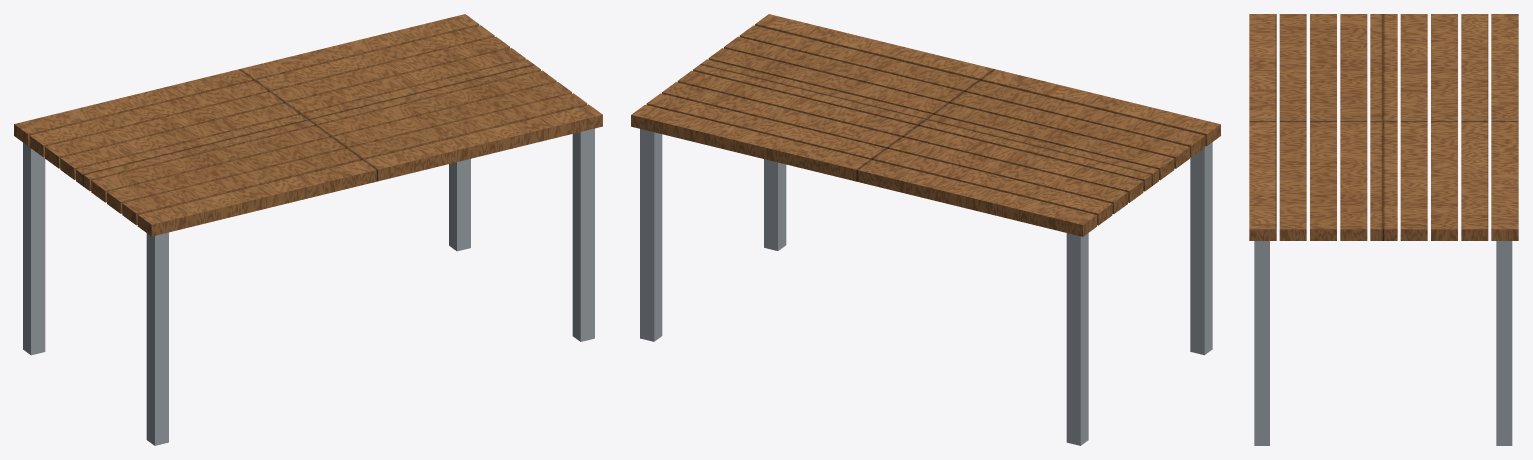
File: Kerti_asztal_160.obj
3 views of the same model, side by side, from view 1: azimuth 30°, elevation 25°; view 2: azimuth 150°, elevation 25°; view 3: azimuth 270°, elevation 25° (orthographic). The views are drawn at different scales.
Bounding box in the file's own units: 1.6 × 0.76 × 0.845.
Materials: 2 (1 with a texture image).
